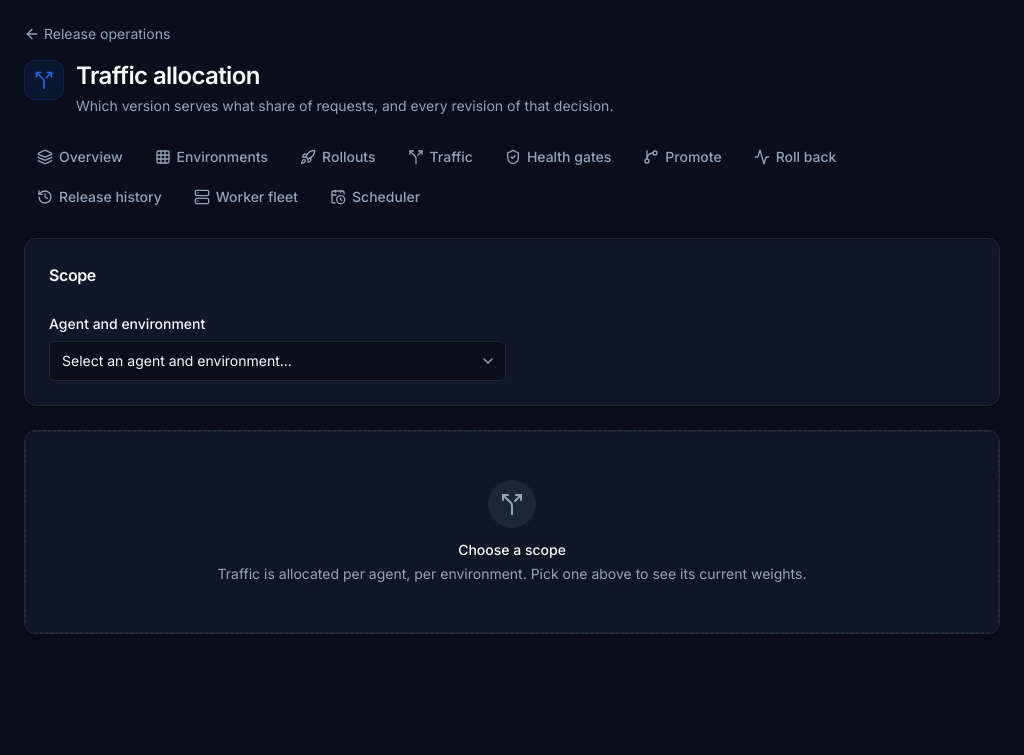
it: AC-04..06 — traffic, gates and the wizards › shows allocation weights and revision history
Step 1. Select "Billing Assistant — PRODUCTION" in the dropdown labelled "Agent and environment" → (278, 361), box x1=49 y1=341 x2=506 y2=381
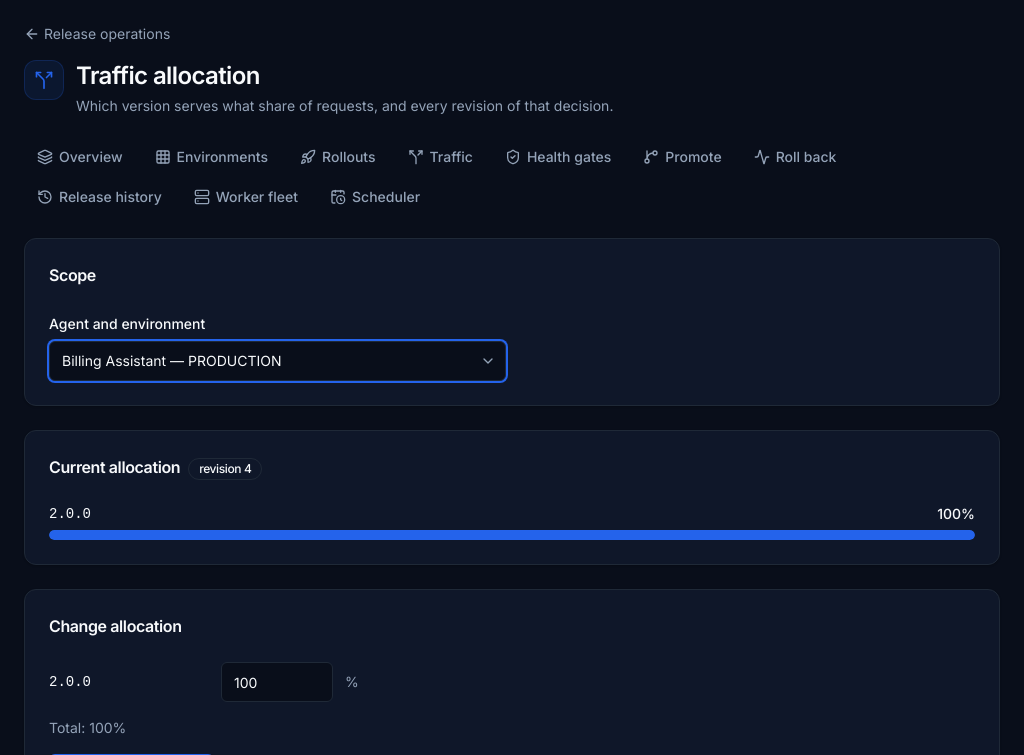
Now the text "revision 4" is shown, box x1=188 y1=458 x2=262 y2=480
